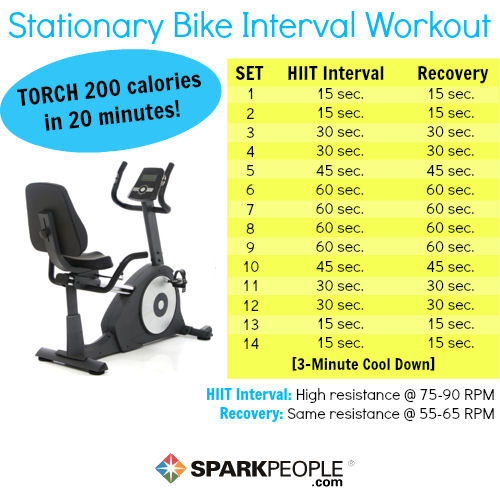gym_bike: (14, 152, 216, 387)
